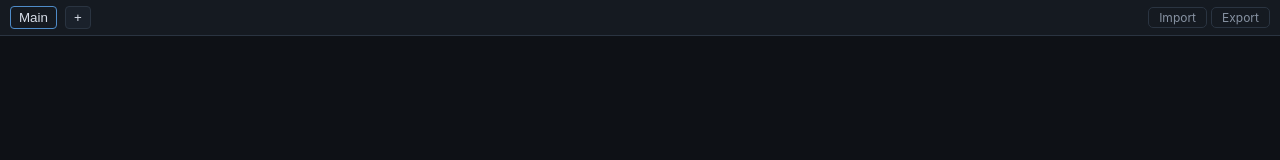
Test: DashboardTabs apps.json interchange › exports the current dashboards and reports where they went
Click the button "Export" at (1241,18), box x1=1211 y1=7 x2=1270 y2=28
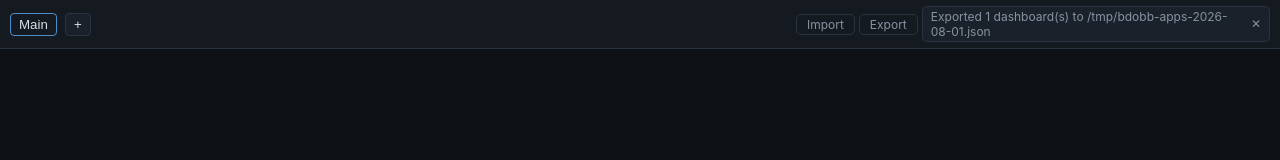
Expected: the message shows "bdobb-apps-2026-08-01.json", x1=931 y1=9 x2=1228 y2=39
